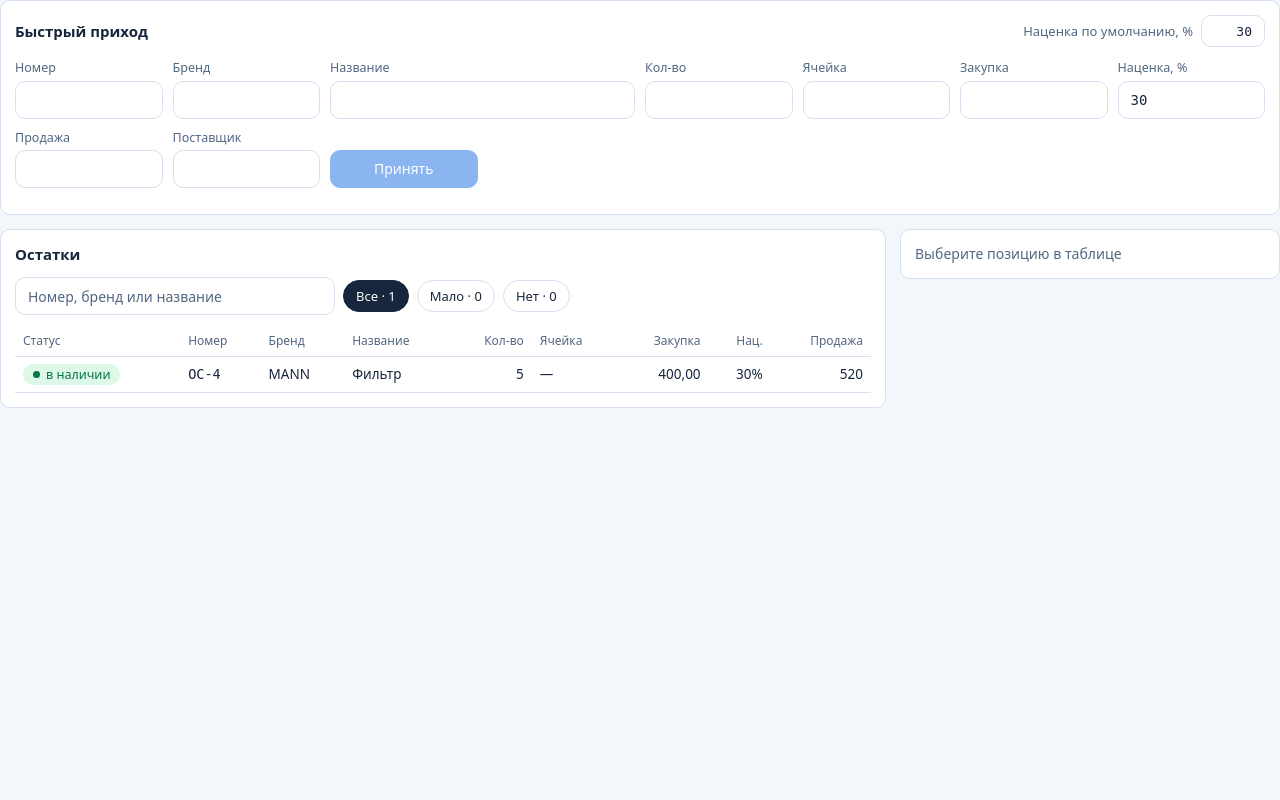
Scenario: does not open the overlay after a receipt is accepted
Expected: the field labelled "Наценка, %" holds "30", x1=1118 y1=80 x2=1265 y2=118
In the field labelled "Номер": (89, 100) x1=15 y1=80 x2=162 y2=118, type "OC-4"
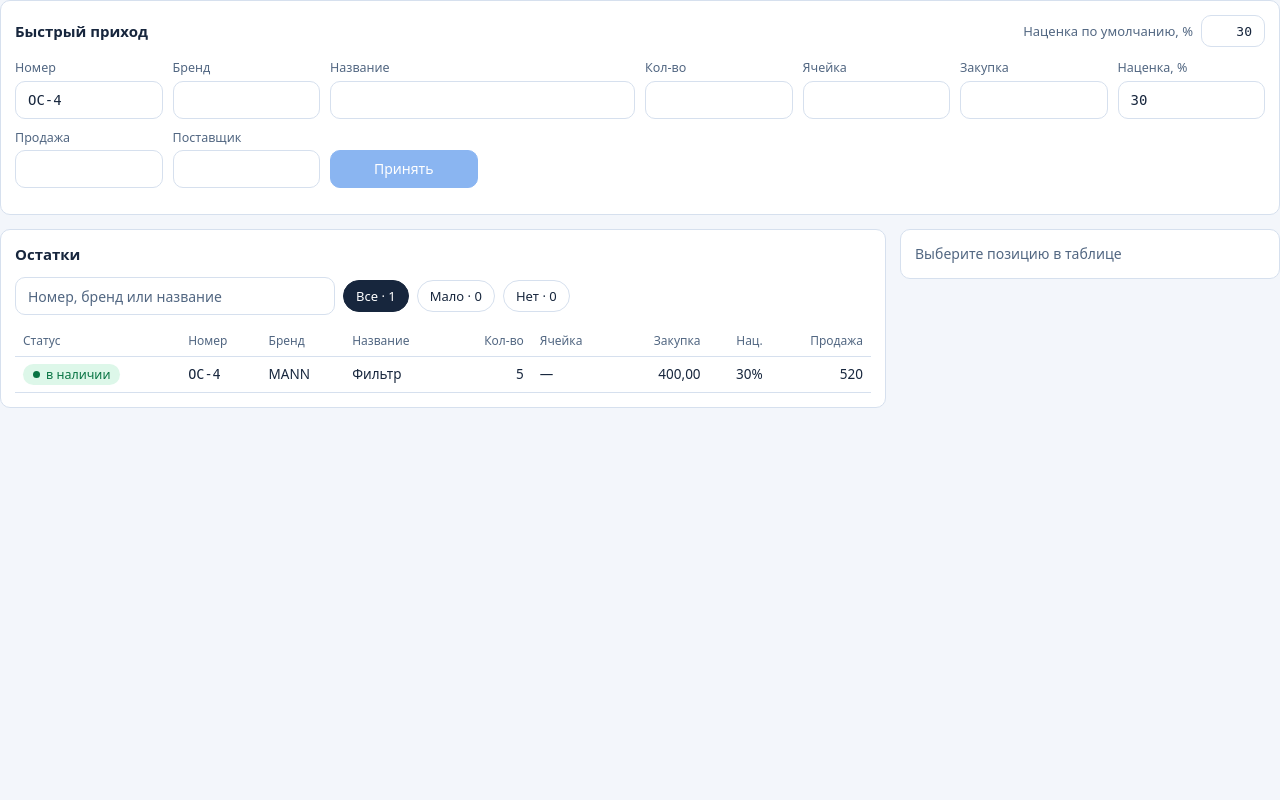
In the field labelled "Бренд": (246, 100) x1=172 y1=80 x2=320 y2=118, type "MANN"
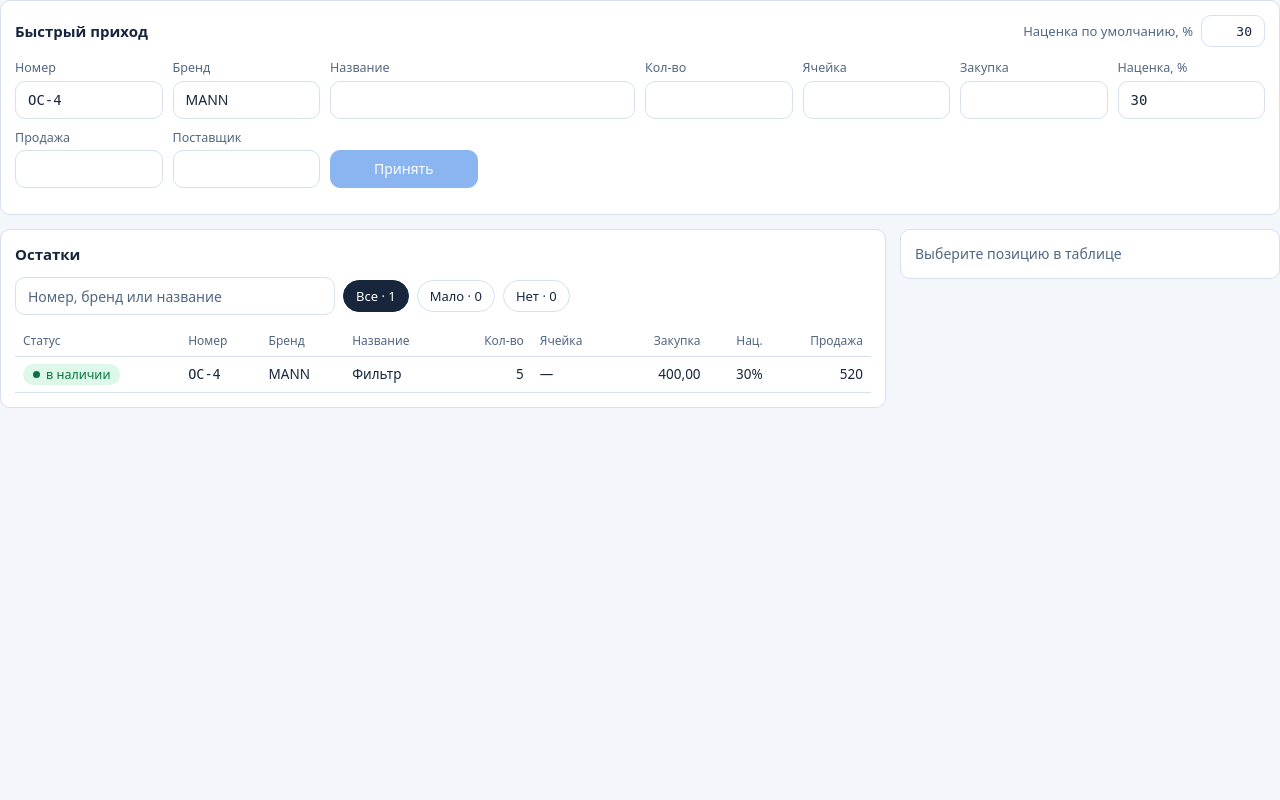
In the field labelled "Название": (482, 100) x1=330 y1=80 x2=635 y2=118, type "Фильтр"
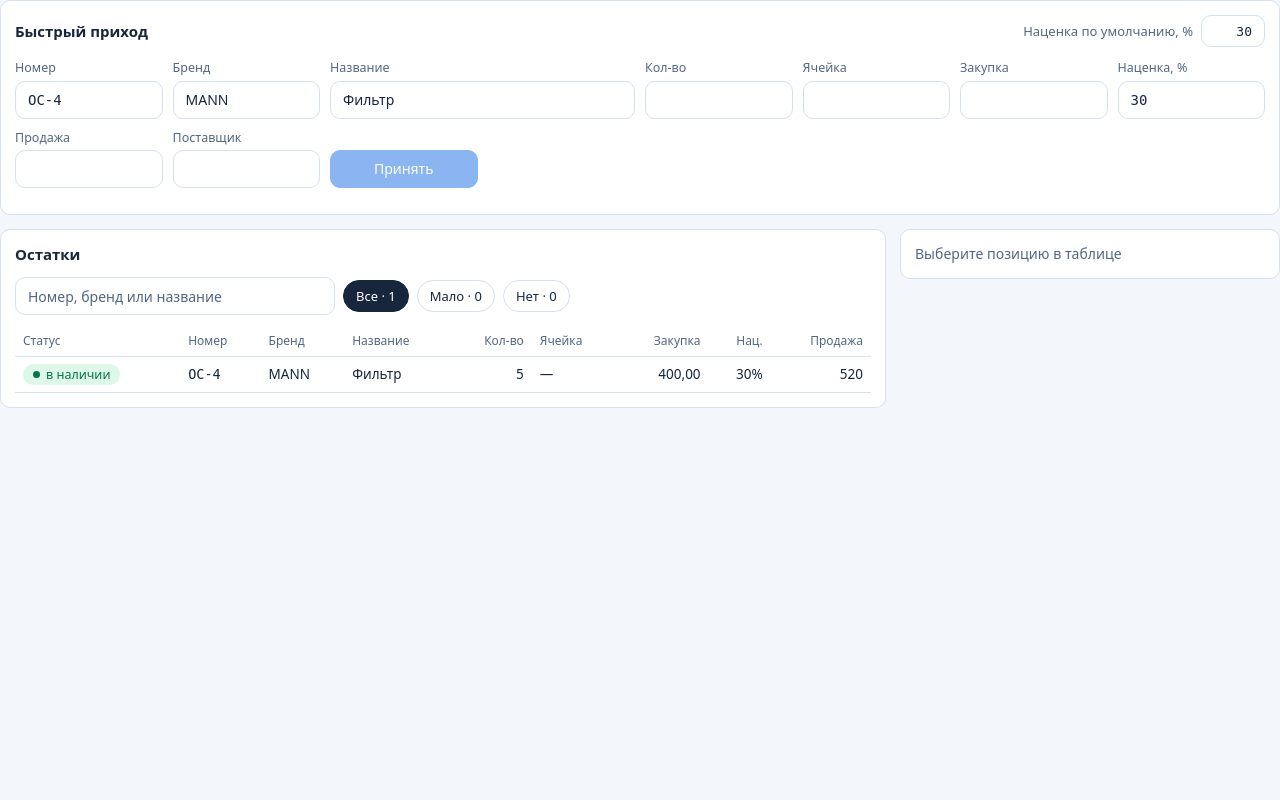
In the field labelled "Кол-во": (719, 100) x1=645 y1=80 x2=792 y2=118, type "4"
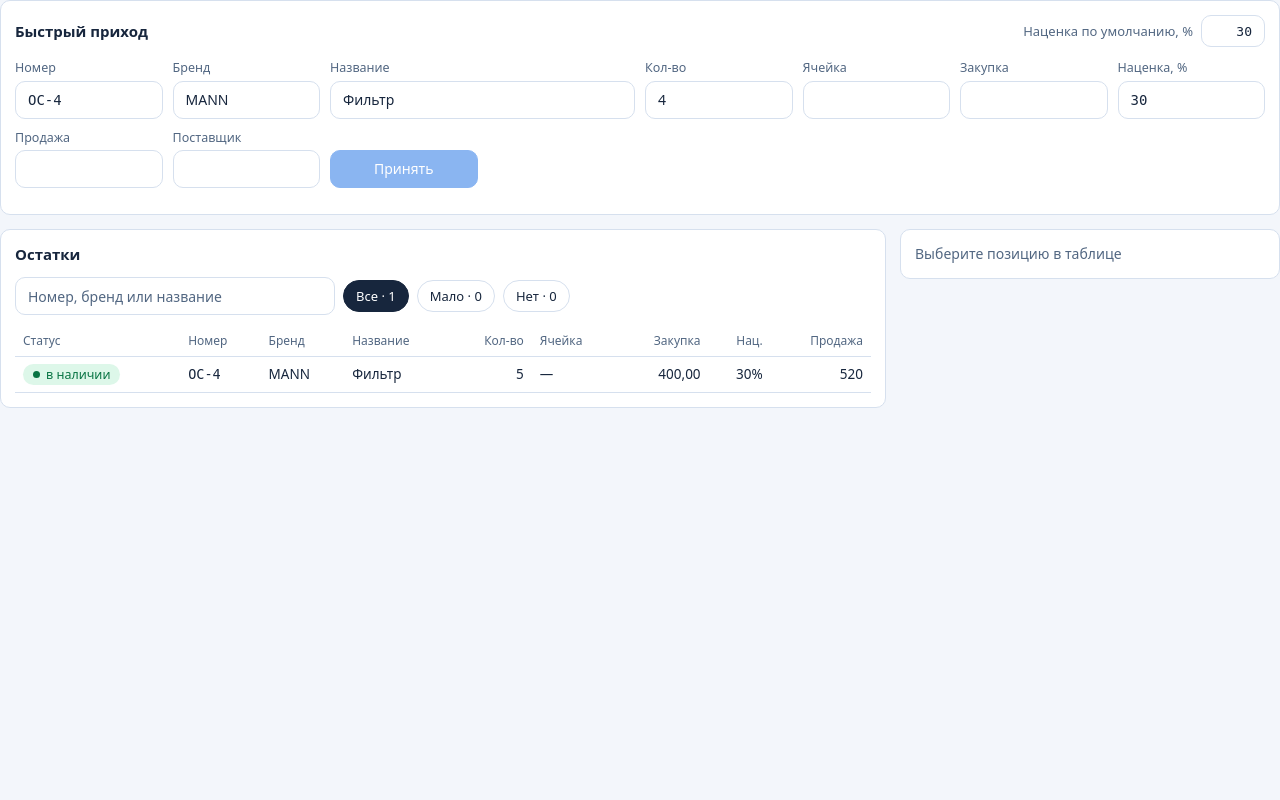
In the field labelled "Закупка": (1034, 100) x1=960 y1=80 x2=1108 y2=118, type "400"
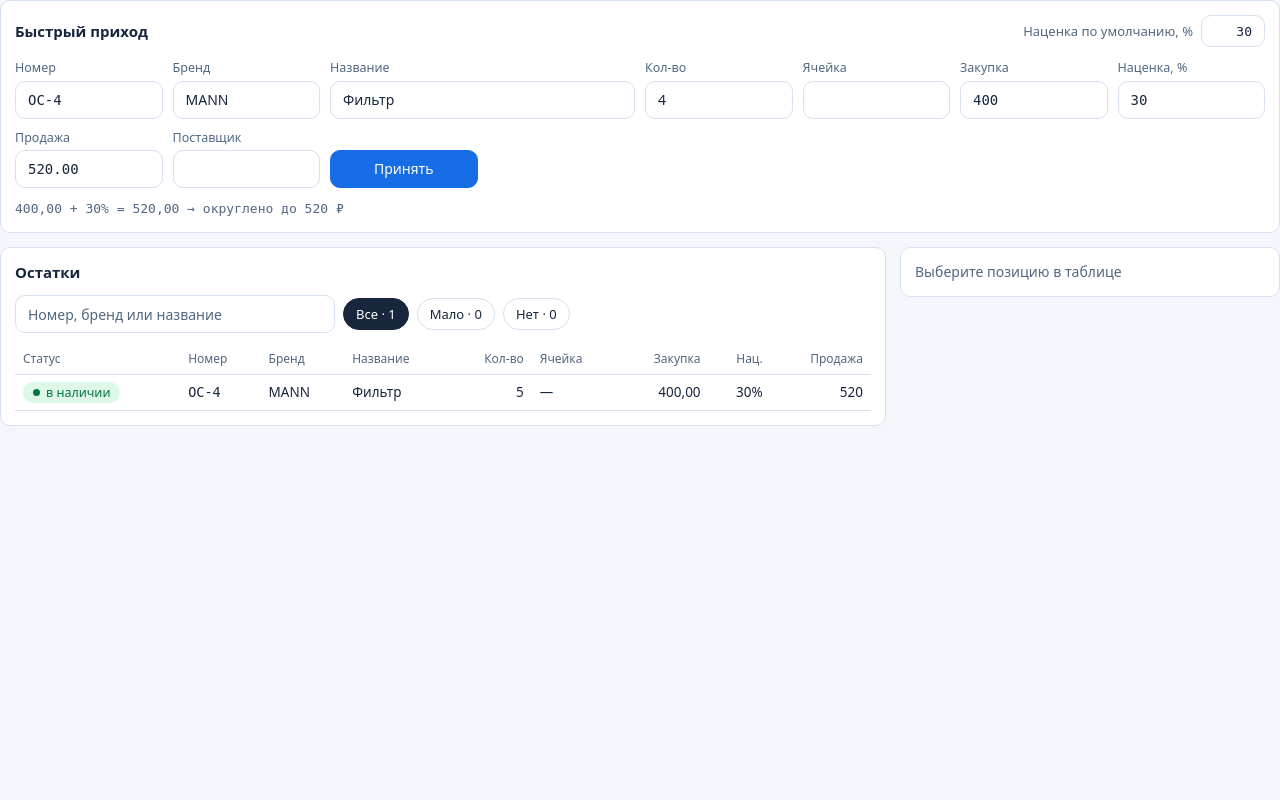
Click the button "Принять": click(404, 169) x1=330 y1=150 x2=478 y2=188
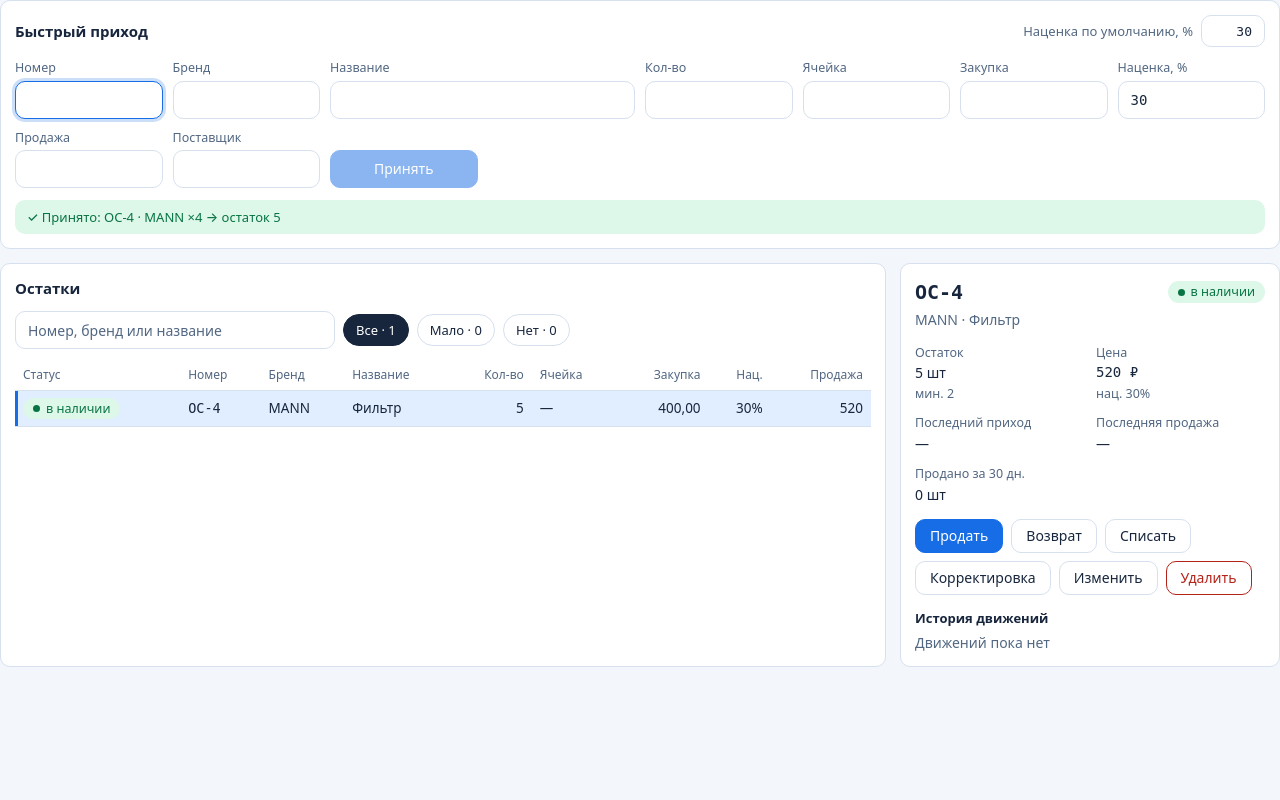
Now the button "Продать" is shown, box x1=915 y1=519 x2=1003 y2=553
